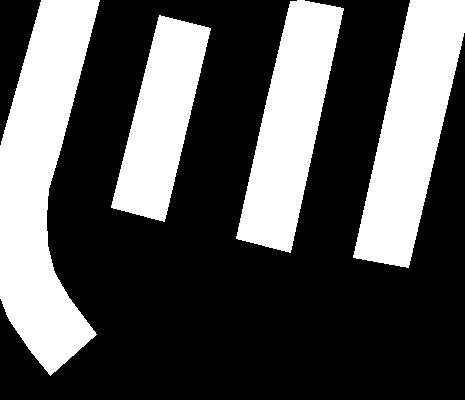parkingspot: (0, 0, 99, 375), (353, 0, 465, 267), (236, 0, 343, 252), (111, 15, 210, 221)
